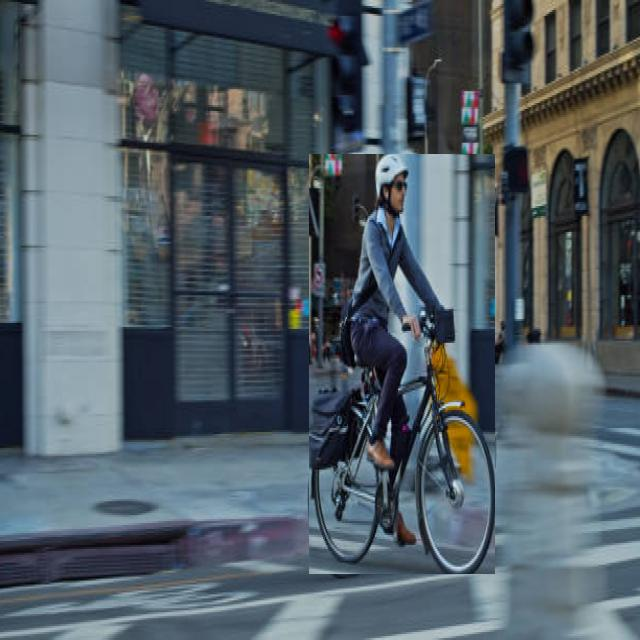bicycle: (309, 154, 495, 574)
